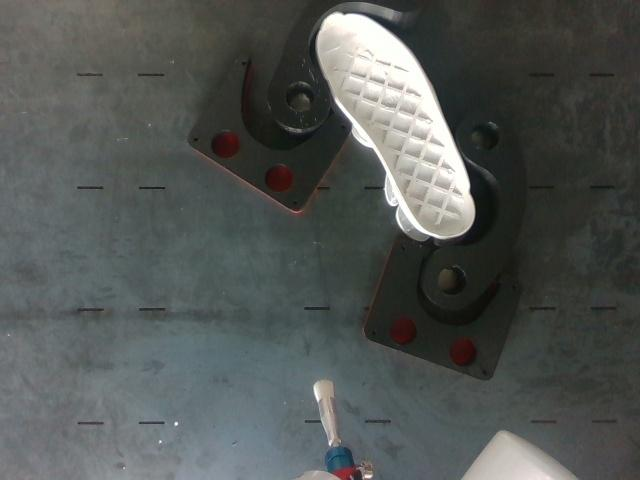shoes: (318, 14, 475, 238)
